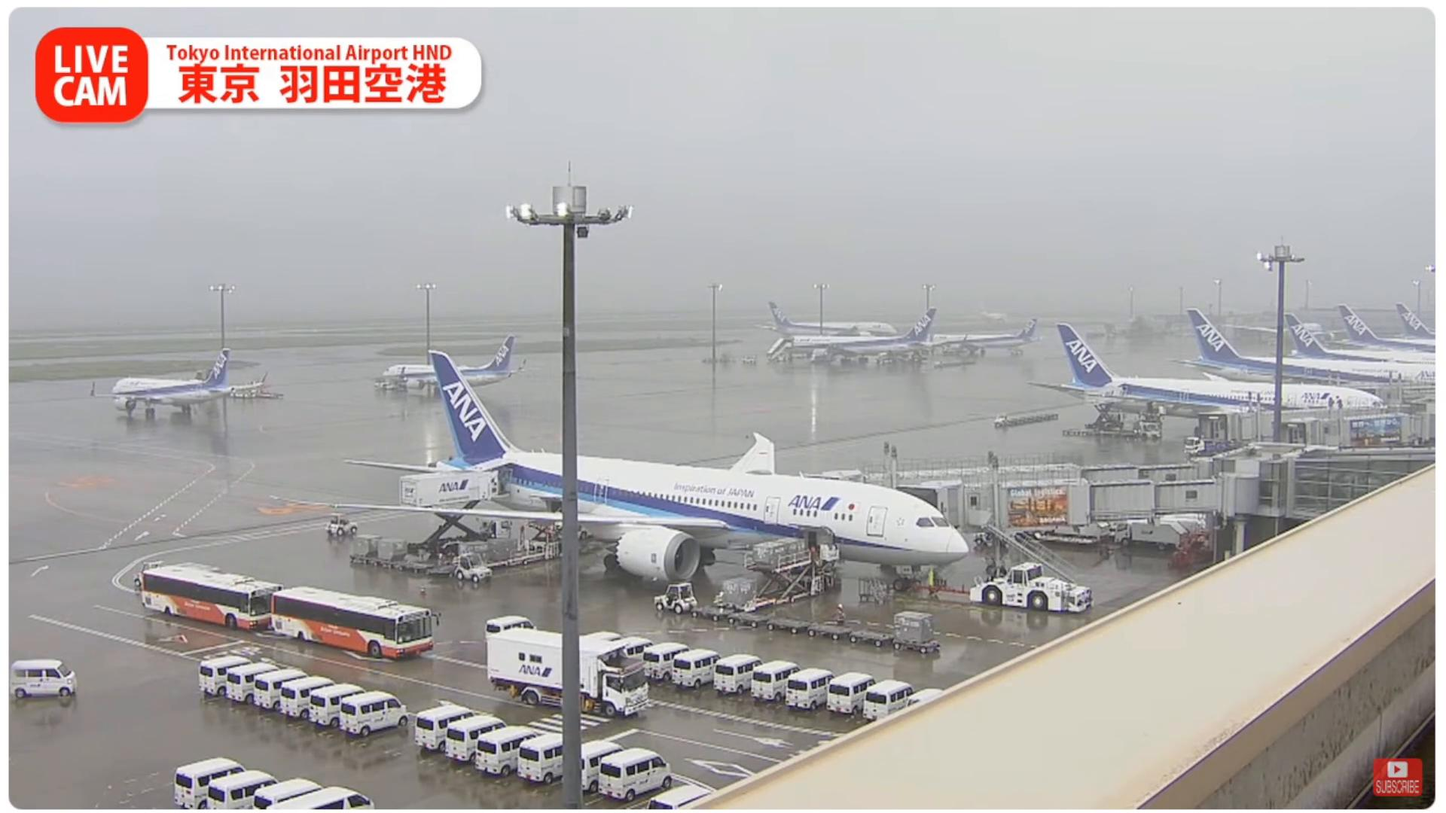APS: (969, 561, 1094, 613)
Aerobridge: (894, 452, 1258, 584), (795, 442, 1210, 488)
Airplane: (333, 353, 970, 591)
Catering: (486, 626, 653, 718), (398, 468, 514, 555)
Dolly: (686, 603, 943, 656), (347, 550, 461, 582)
JCPL: (744, 544, 827, 610), (480, 520, 565, 569)
Tractor: (655, 583, 700, 614), (454, 549, 495, 583), (326, 513, 359, 536)
ULD: (894, 609, 937, 645), (722, 576, 758, 606), (750, 541, 788, 569), (769, 536, 808, 563), (354, 534, 382, 557), (378, 540, 408, 561), (488, 538, 518, 559)
Window: (1291, 451, 1436, 515)
